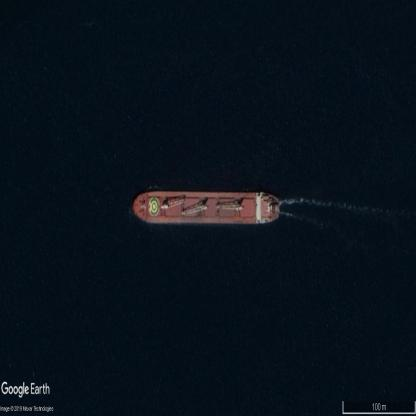ship: (133, 189, 279, 224)
